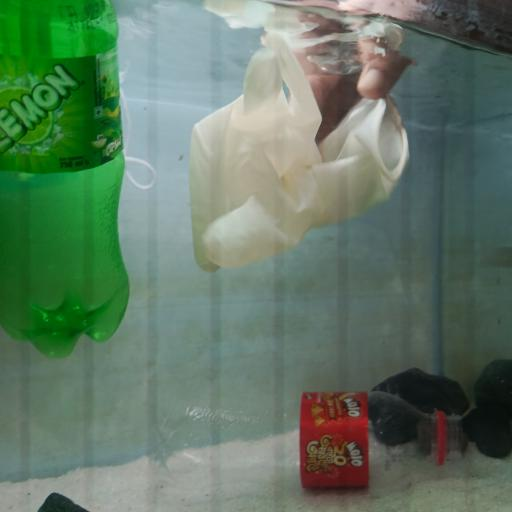glove: (190, 33, 409, 277)
plastic_bottle: (0, 0, 131, 360), (147, 392, 461, 488)
